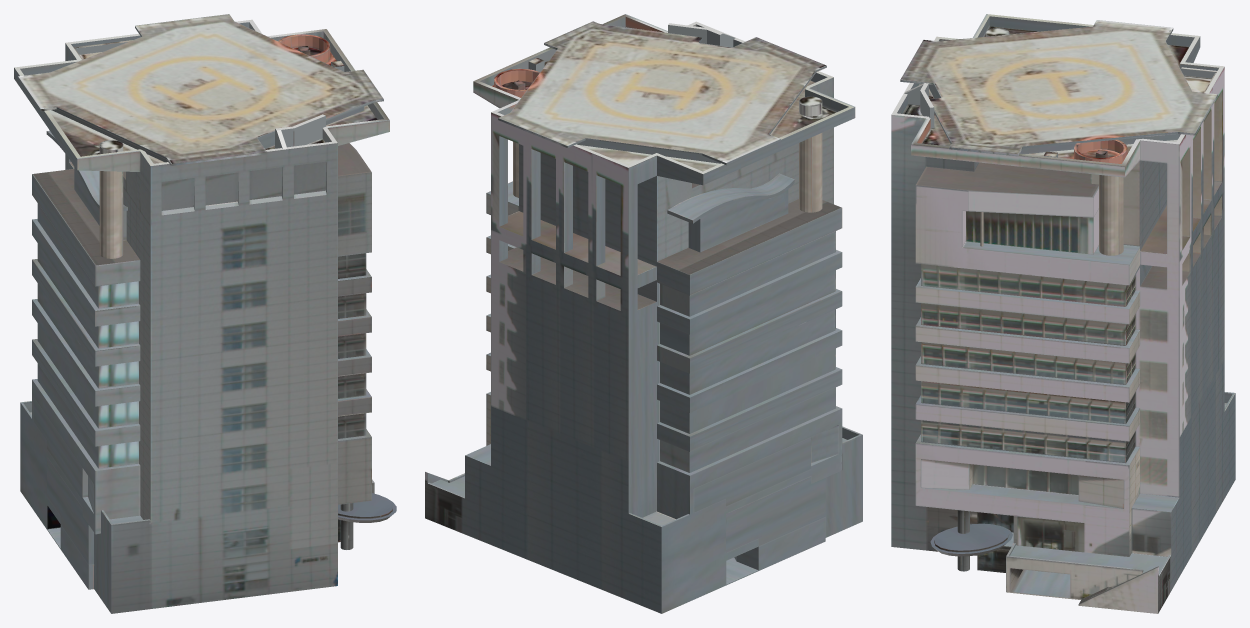
Rendered from bldg_3e09e662_c1d3_4cb6_9691_0701be8fb0fc.fbx.
3 views of the same model, side by side, from view 1: azimuth 30°, elevation 25°; view 2: azimuth 150°, elevation 25°; view 3: azimuth 270°, elevation 25° (orthographic). The views are drawn at different scales.
Parts seen in each view (by area): view 1: bldg_3e09e662_c1d3_4cb6_9691_0701be8fb0fc; view 2: bldg_3e09e662_c1d3_4cb6_9691_0701be8fb0fc; view 3: bldg_3e09e662_c1d3_4cb6_9691_0701be8fb0fc.
Part boxes in pixels (x1=…): bldg_3e09e662_c1d3_4cb6_9691_0701be8fb0fc: x1=14, y1=14, x2=396, y2=613; bldg_3e09e662_c1d3_4cb6_9691_0701be8fb0fc: x1=425, y1=14, x2=862, y2=613; bldg_3e09e662_c1d3_4cb6_9691_0701be8fb0fc: x1=891, y1=14, x2=1235, y2=613.
Bounding box in the file's own units: 3550 × 4368 × 3077.
